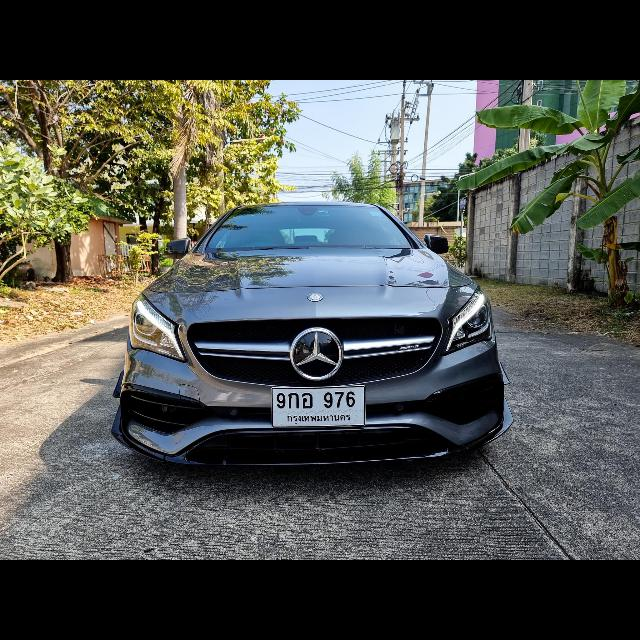cars: (110, 189, 522, 485)
